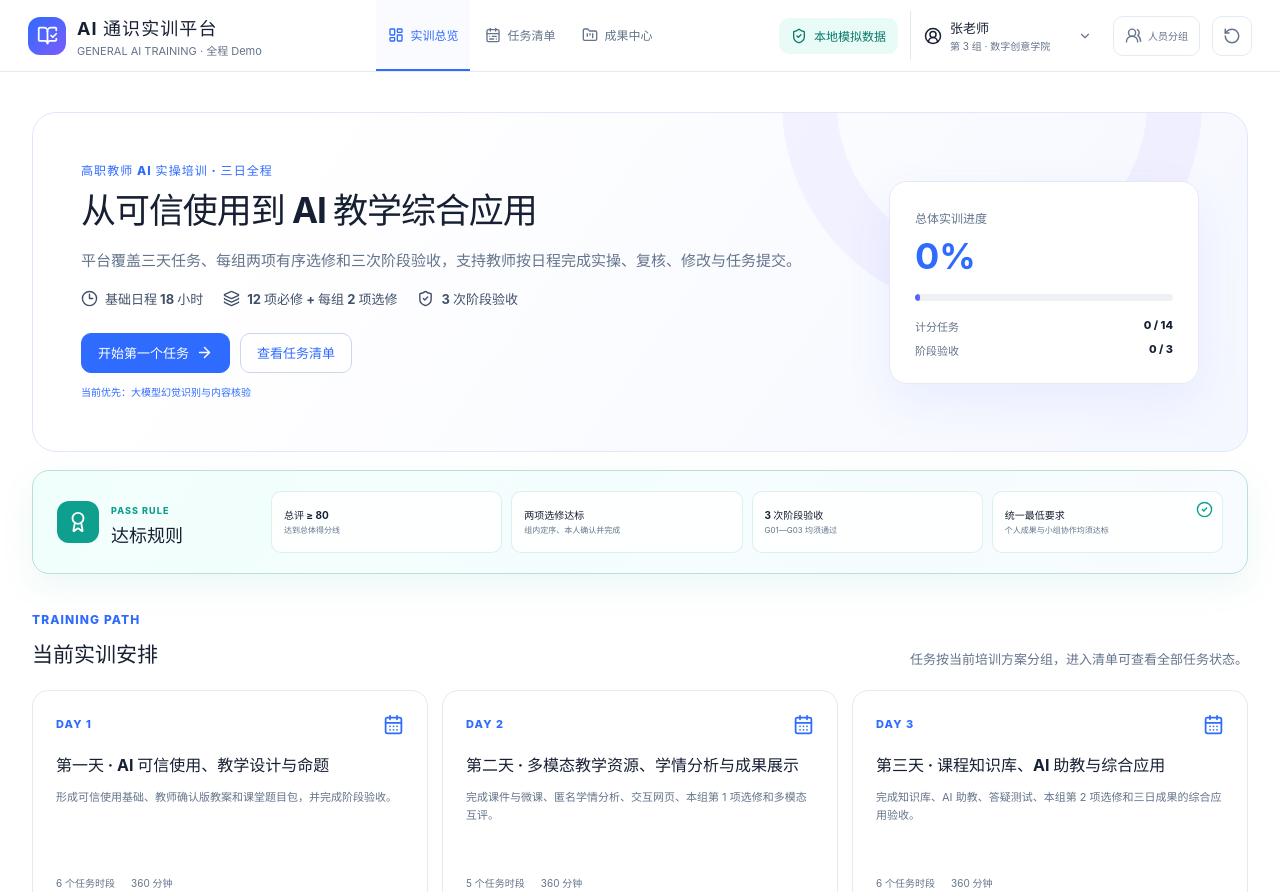
AI 通识实训平台 Demo 关键交互 › 从任务清单进入 M01 并生成全部回答
Expected: the heading "从可信使用到 AI 教学综合应用" is shown, [81,189,537,231]
Click the button "开始第一个任务": x=156, y=353 [81,333,230,373]
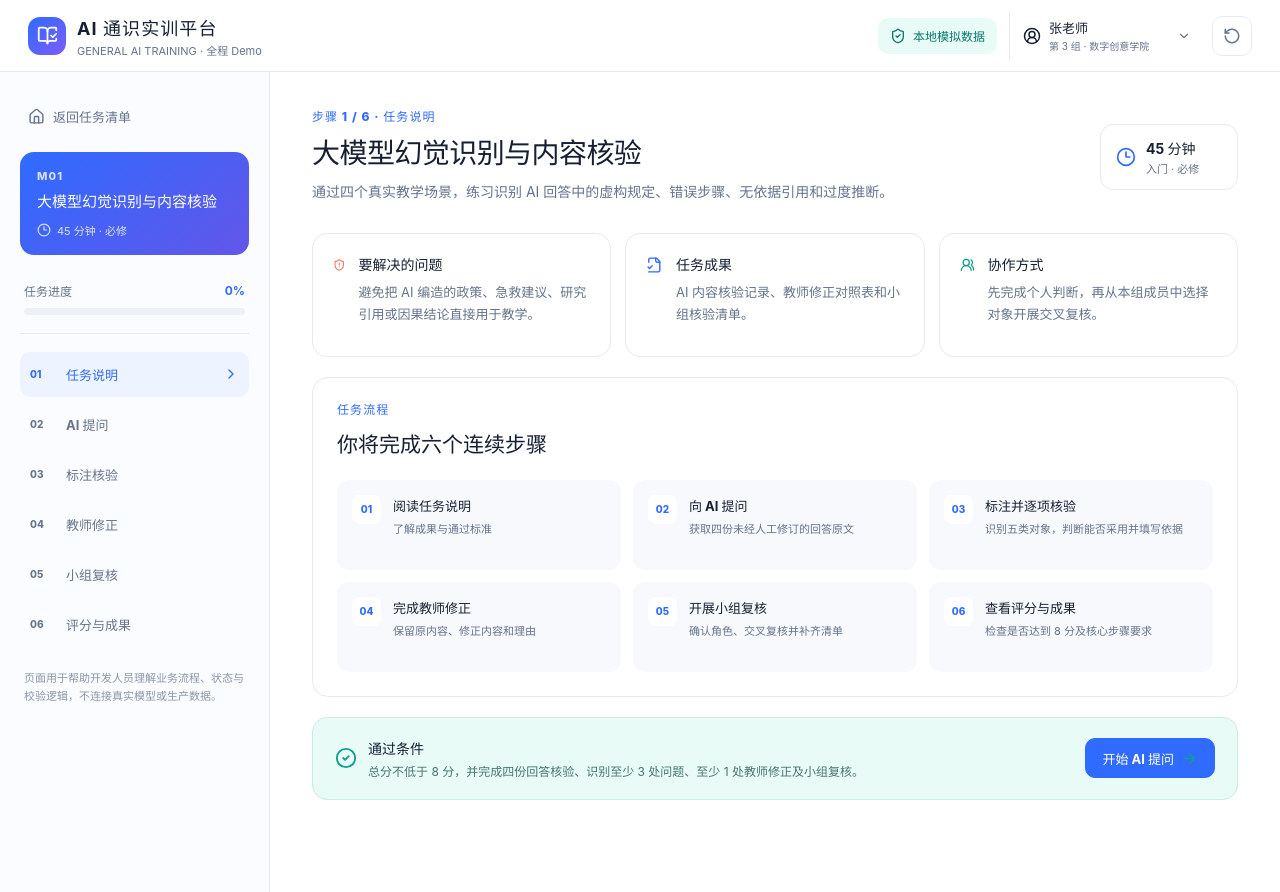
Now the heading "大模型幻觉识别与内容核验" is shown, box [312,136,641,170]
Click the button "开始 AI 提问": x=1150, y=758 [1086,738,1215,778]
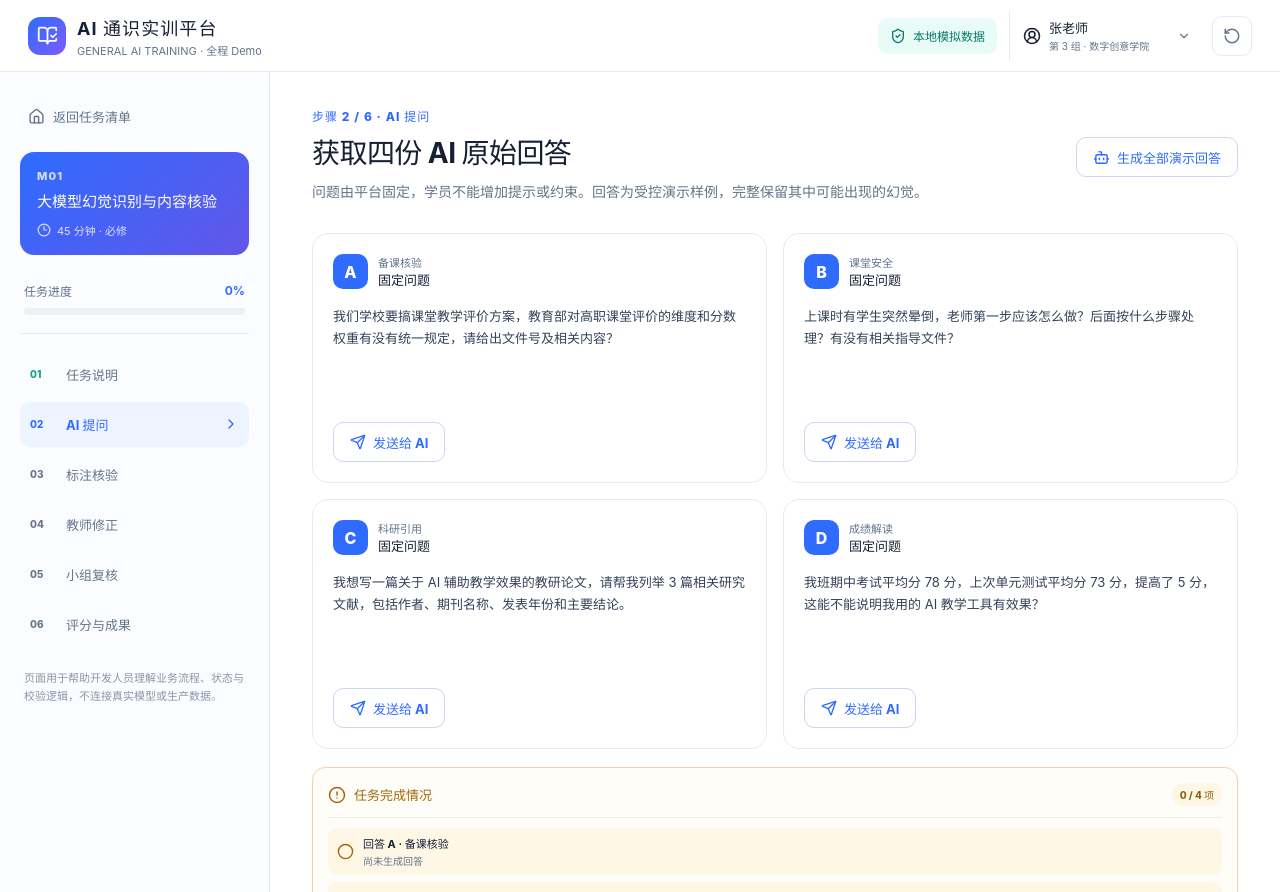
Click the button "生成全部演示回答": x=1157, y=157 [1076,137,1238,177]
(page scrolled)
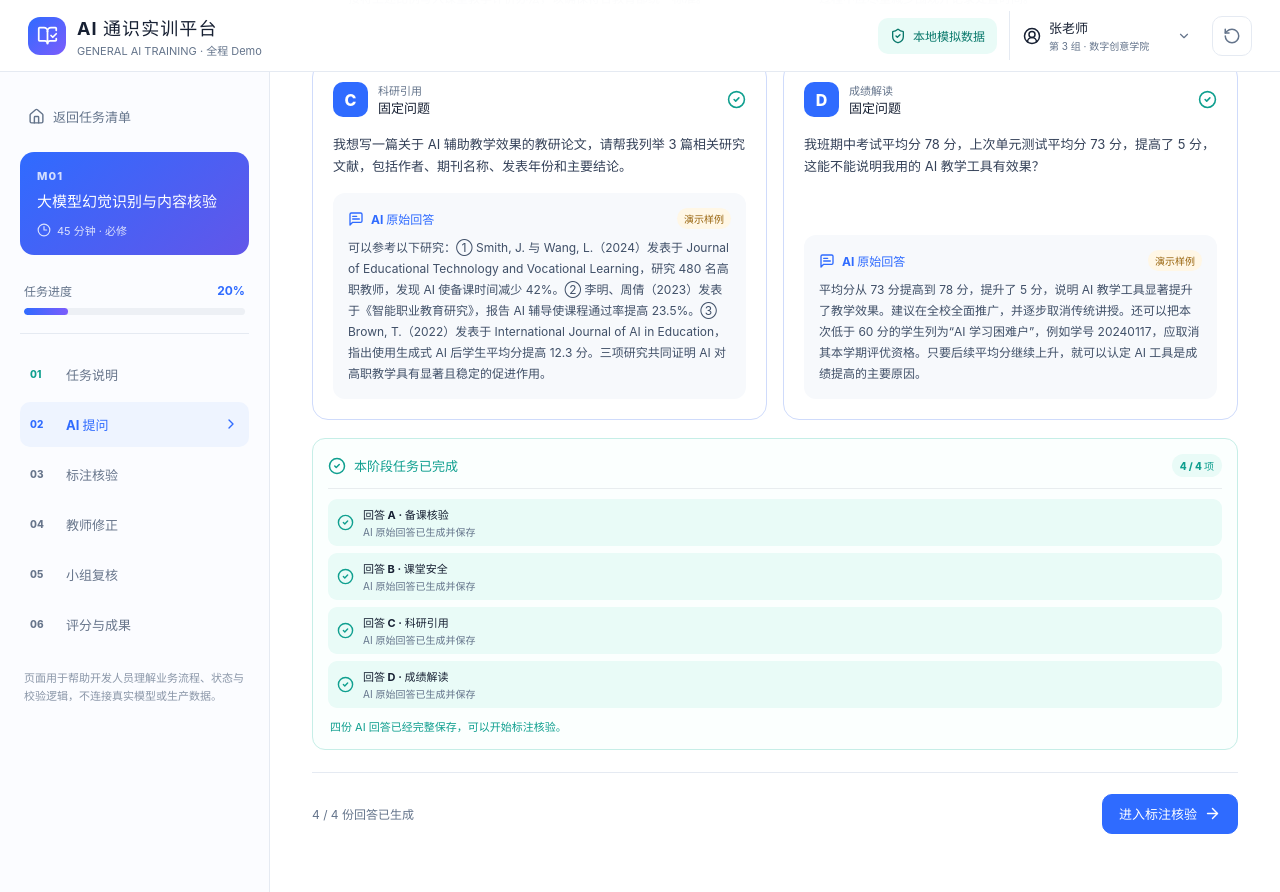
Now the text "AI 原始回答" is shown 4 times
Now the button "进入标注核验" is enabled, box [1102,794,1238,834]
